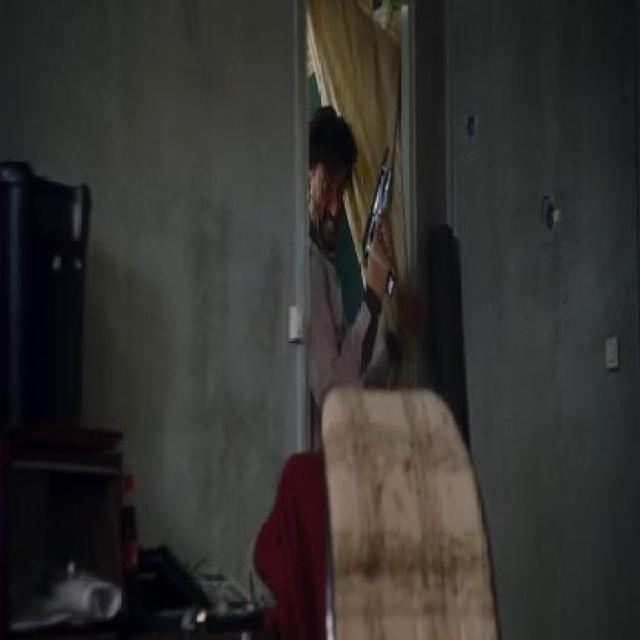gun: (358, 114, 410, 334)
